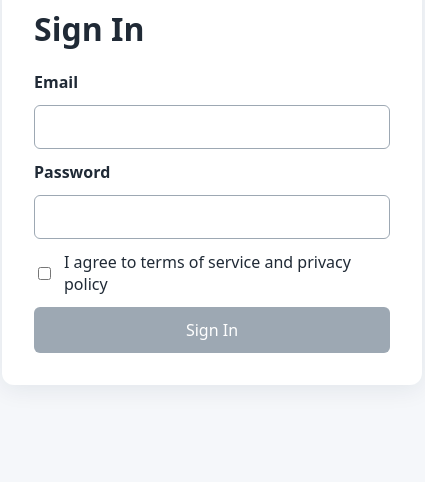
Login form › shows the expected errors and prevents invalid submissions
Type "invalid-email" into the field with id "email" at (212,127), box [34, 105, 390, 149]
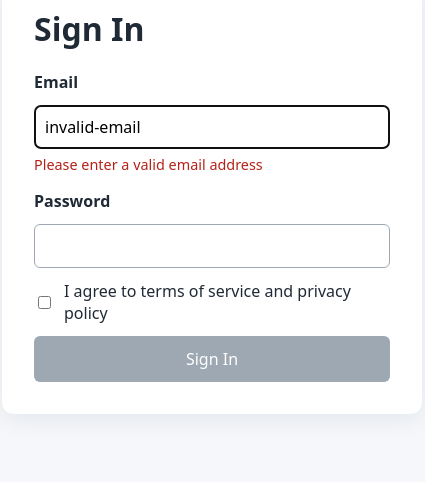
Check: the submit button is disabled, box [34, 336, 390, 382]
Check: the number of messages is 1, box [34, 155, 263, 174]
Check: the message "Please enter a valid email address" is shown, box [34, 155, 263, 174]
Type "weak" into the password field labelled "Password" at (212,246), box [34, 224, 390, 268]
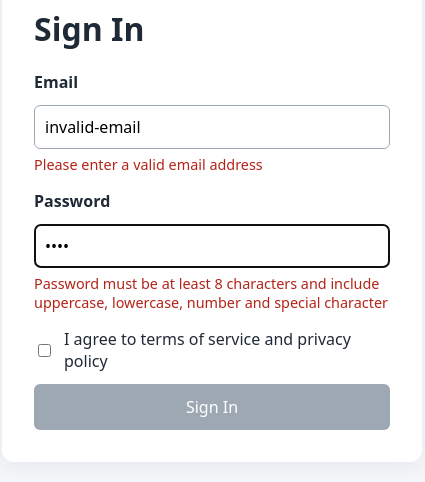
Check: the submit button is disabled, box [34, 384, 390, 430]
Check: the number of messages is 2, box [34, 155, 263, 174]; [34, 274, 390, 312]
Check: the 2nd message shows "Password must be at least 8 characters", box [34, 274, 388, 312]
Replace the text in the field with id "email" with "erdem@example.com" at (212,127), box [34, 105, 390, 149]
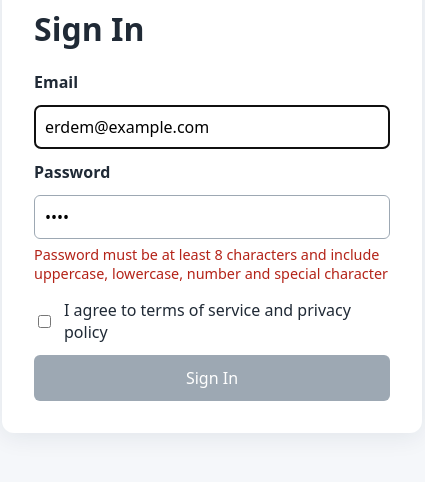
Type "Strong1!" into the password field labelled "Password" at (212,217), box [34, 195, 390, 239]
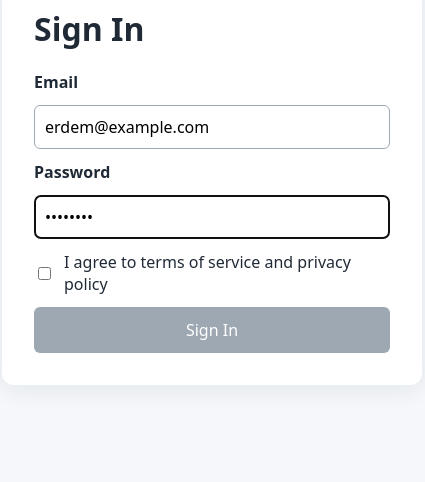
Check: the submit button is disabled, box [34, 307, 390, 353]
Check: the message "Password must be at least 8 characters and include uppercase, lowercase, number" is gone
Check the checkbox with id "terms" at (45,274), box [38, 267, 51, 280]
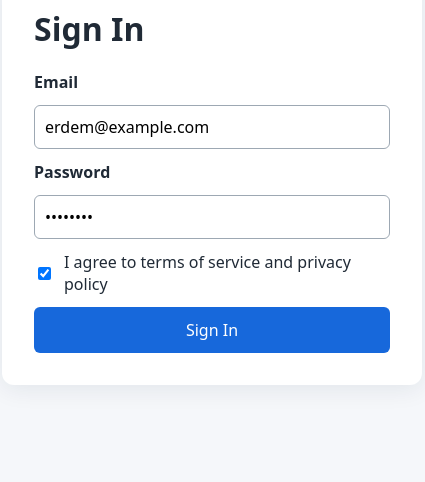
Check: the submit button is enabled, box [34, 307, 390, 353]
